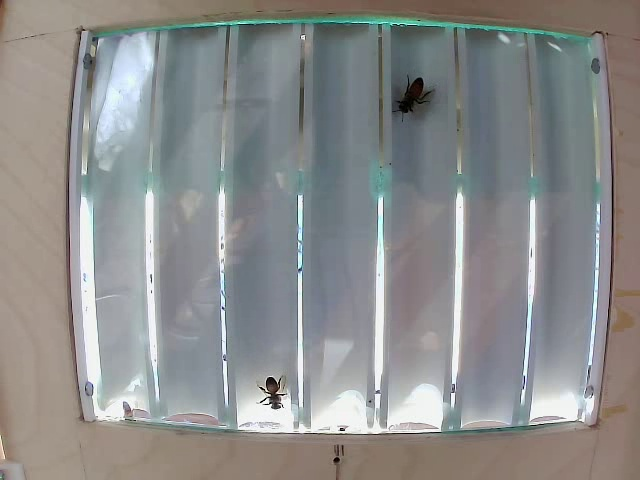bee: (254, 363, 303, 415), (393, 74, 436, 129)
